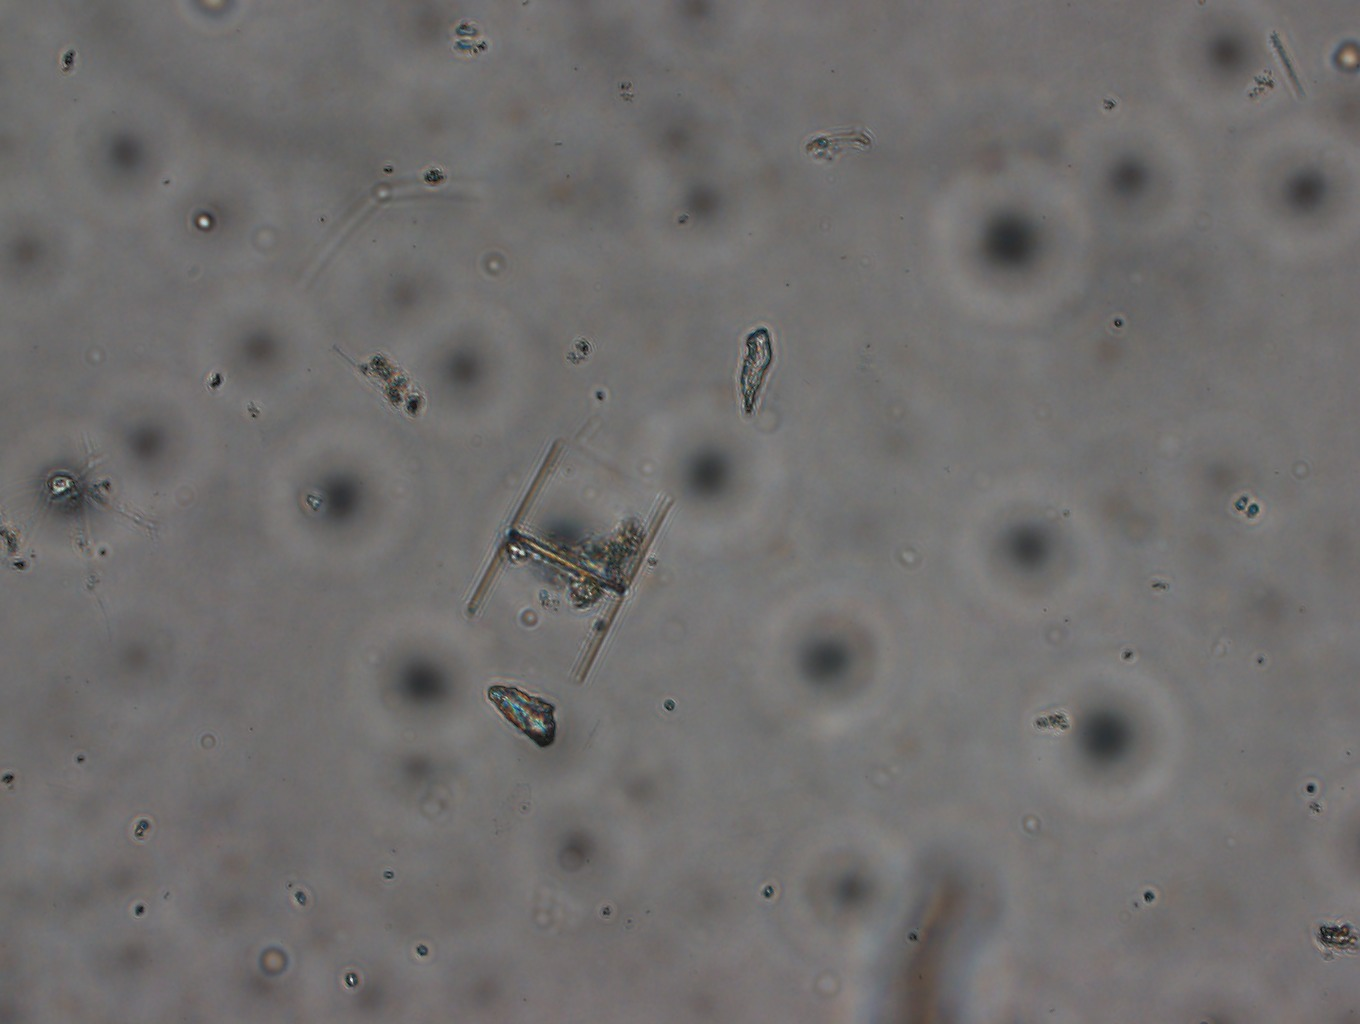guinardia flaccida: (466, 437, 674, 684)
